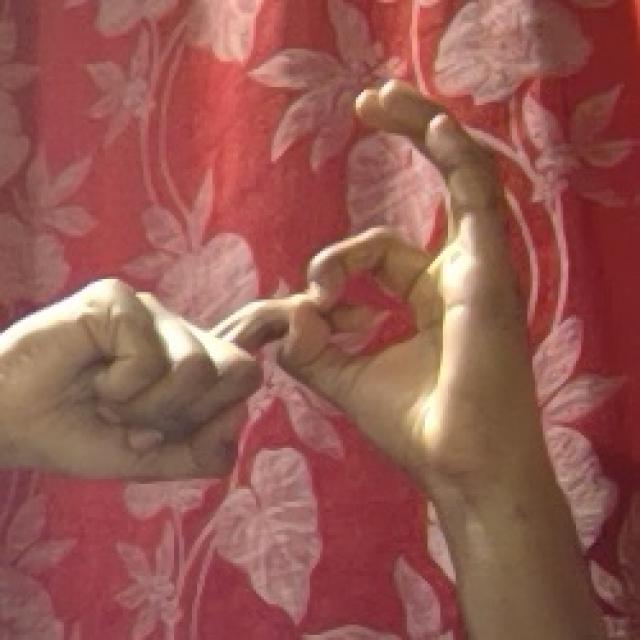Alphabet-Q: (14, 68, 563, 533)
